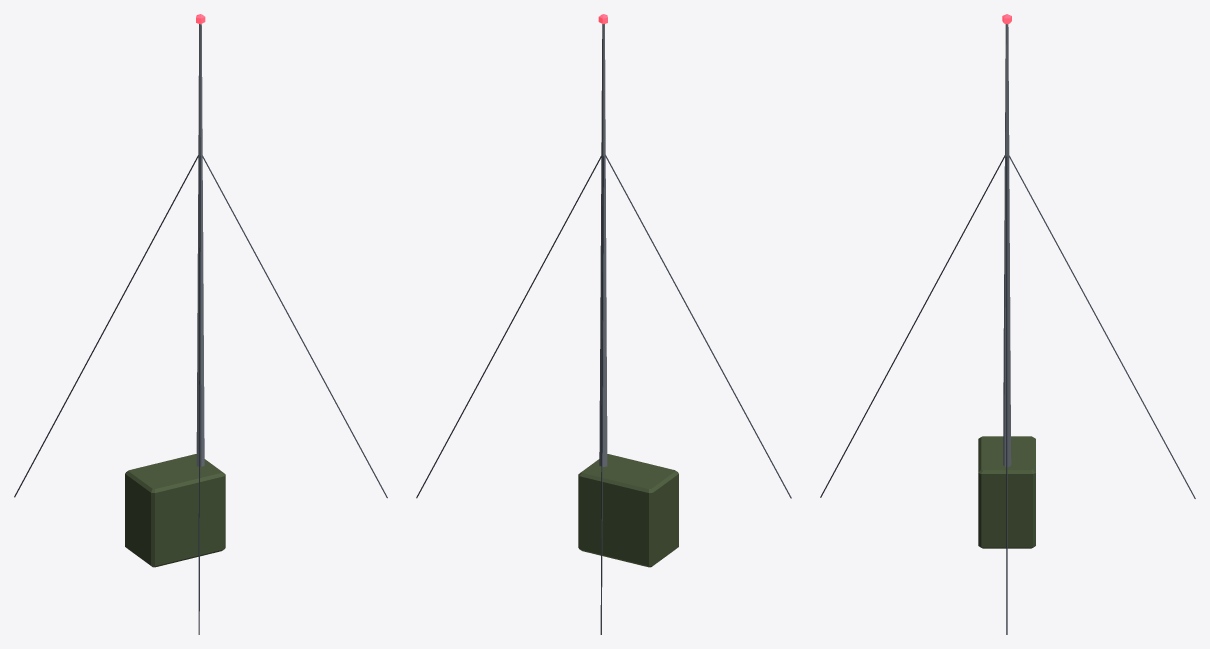
Rendered from radio_antenna.glb.
3 views of the same model, side by side, from view 1: azimuth 30°, elevation 25°; view 2: azimuth 150°, elevation 25°; view 3: azimuth 270°, elevation 25° (orthographic).
Parts seen in each view (by area): view 1: radio_antenna; view 2: radio_antenna; view 3: radio_antenna.
Part boxes in pixels (<box>): radio_antenna: <box>14,14,387,634</box>; radio_antenna: <box>416,14,791,634</box>; radio_antenna: <box>820,14,1195,634</box>.
Size of the model in its own units: 2.26 by 4.06 by 2.61.
